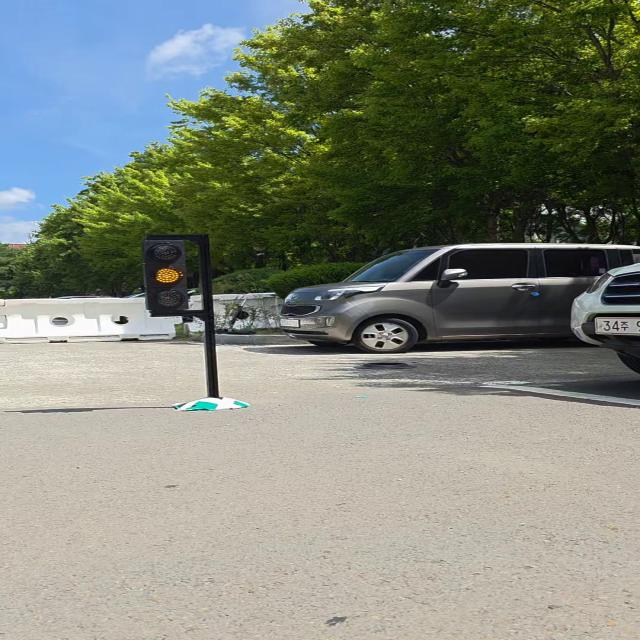yellow: (142, 239, 190, 311)
